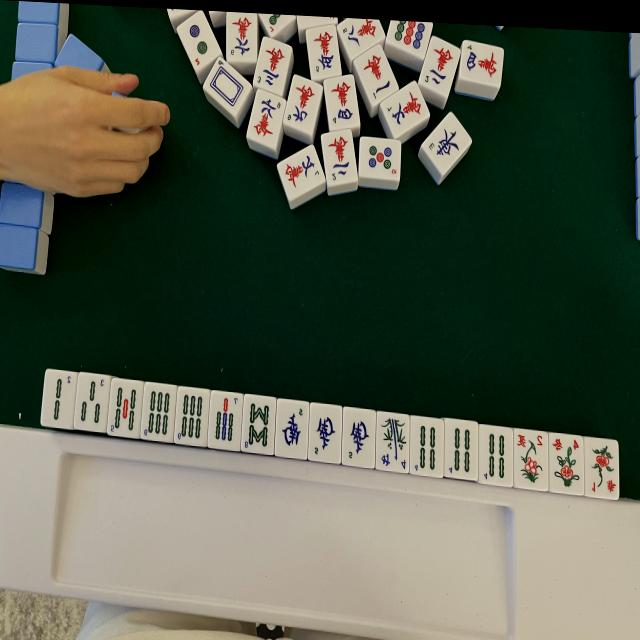f4: (381, 415, 408, 470)
ff1: (589, 442, 617, 497)
ff2: (516, 432, 546, 488)
ff4: (549, 435, 581, 493)
s2: (48, 373, 73, 423)
s3: (80, 375, 106, 425)
s4: (480, 429, 510, 483), (411, 421, 441, 474), (448, 424, 473, 477)
s5: (110, 383, 140, 434)
s6: (142, 385, 174, 440), (177, 390, 206, 444)
s7: (212, 393, 239, 446)
s8: (243, 398, 273, 452)
south: (311, 405, 337, 459), (345, 415, 372, 463), (280, 402, 306, 451)
